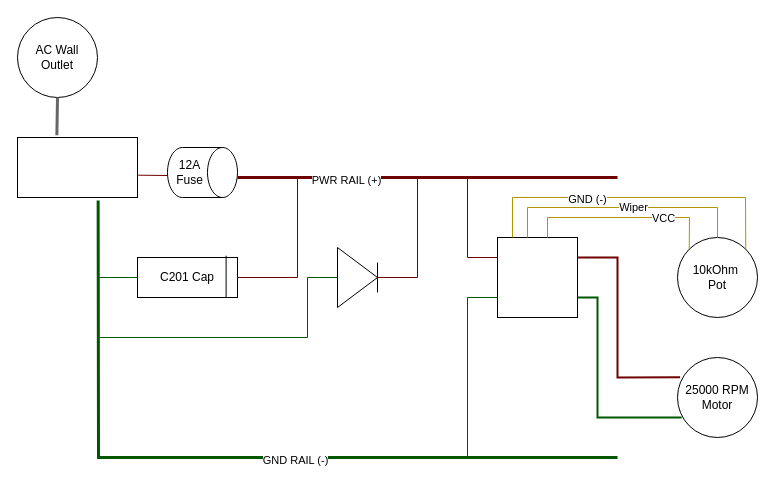
The diagram is 775 pixels wide and 484 high, and some of its shapes have lost their labels. The shapes that lost their labels are listed below. From the top down, each one's box as (x1, y1, x2, y2) in pixels, then its label:
(16, 136, 138, 198): DC Power Supply
(336, 246, 378, 308): D702
(496, 236, 578, 318): Motor Controller
